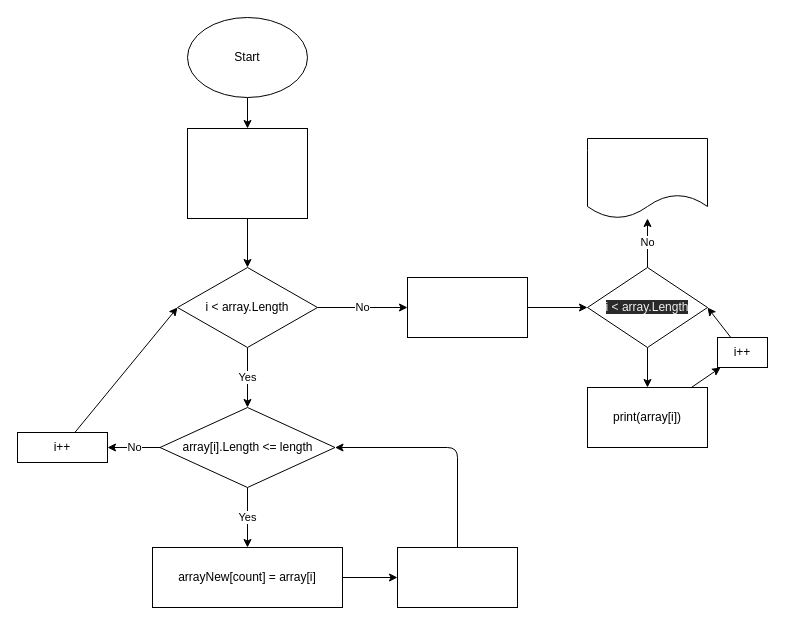
The diagram is 785 pixels wide and 625 high, and some of its shapes have lost their labels. The shapes that lost their labels are listed below. From the top down, each one's centre as x and y in pixels, then its label:
(x=247, y=173): array arrayNew count = 0 length = 3 i = 0 result = 0
(x=647, y=178): end
(x=467, y=307): Print arrayNew
(x=457, y=577): count++
